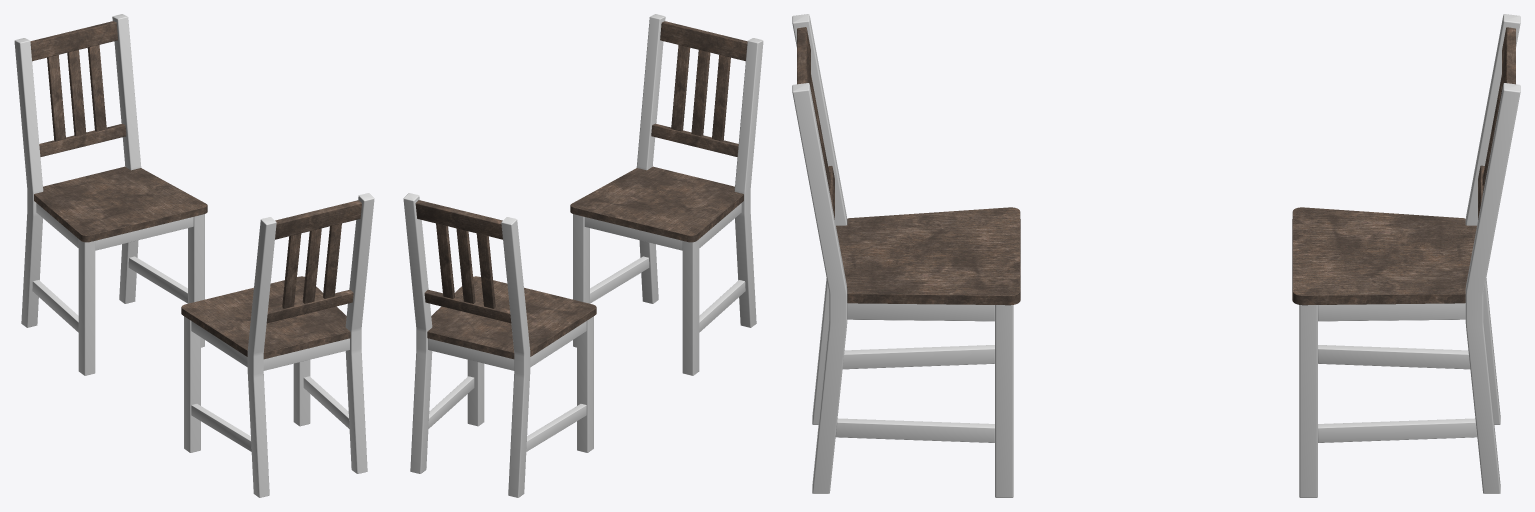
File: SedieScenografia.fbx
The picture shows the model from 3 angles, left to right: view 1: azimuth 30°, elevation 25°; view 2: azimuth 150°, elevation 25°; view 3: azimuth 270°, elevation 25°; orthographic projection. The views are drawn at different scales.
Visible parts, largest first — view 1: Wood chair.002, Wood chair.001; view 2: Wood chair.001, Wood chair.002; view 3: Wood chair.001, Wood chair.002.
Boxes of the visible parts, x1,y1,x2,y2 form: Wood chair.002: (14, 14, 207, 375); Wood chair.001: (181, 193, 374, 497); Wood chair.001: (570, 14, 763, 375); Wood chair.002: (403, 193, 596, 497); Wood chair.001: (792, 14, 1020, 497); Wood chair.002: (1292, 14, 1520, 497).
Bounding box in the file's own units: 41.49 × 88.38 × 144.
